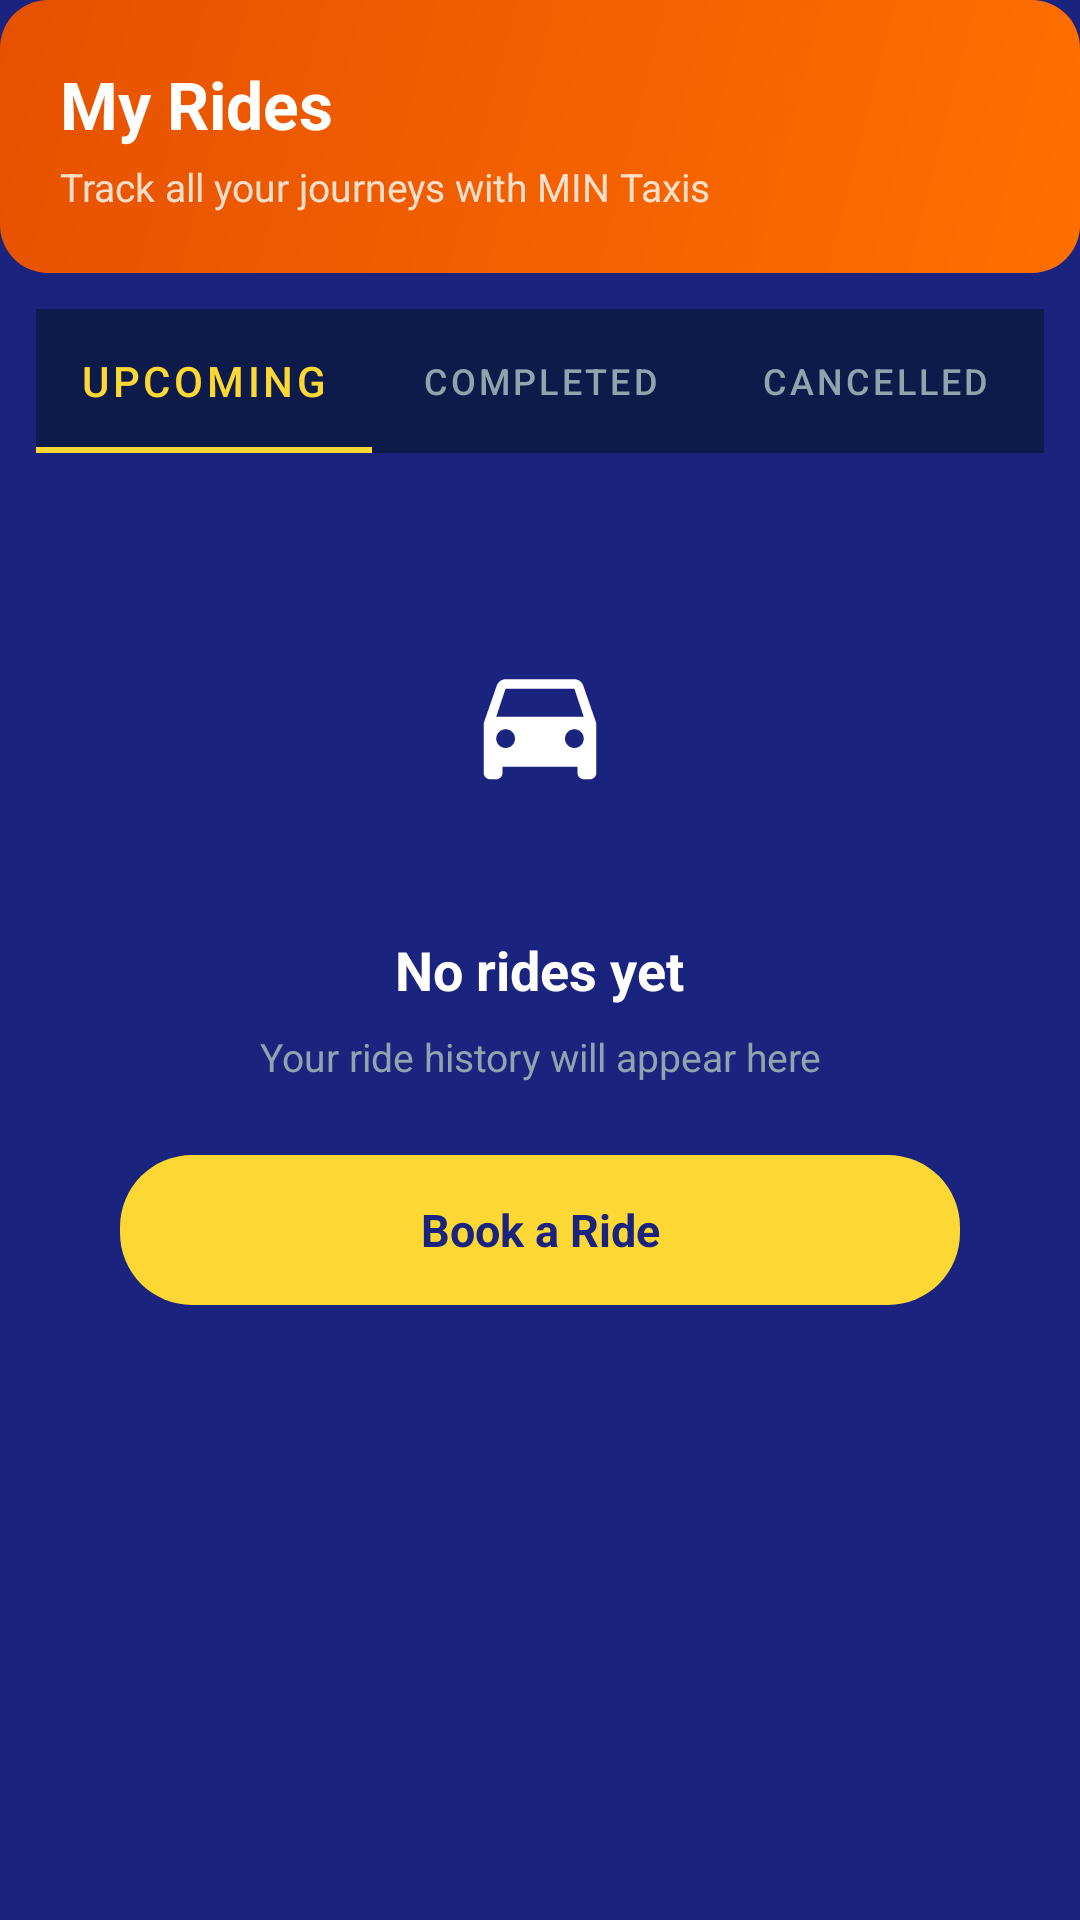

Icons on this 1080*1920 Android screen, each with its box as (x1, y1, x2, y2):
car: (483, 679, 597, 780)
